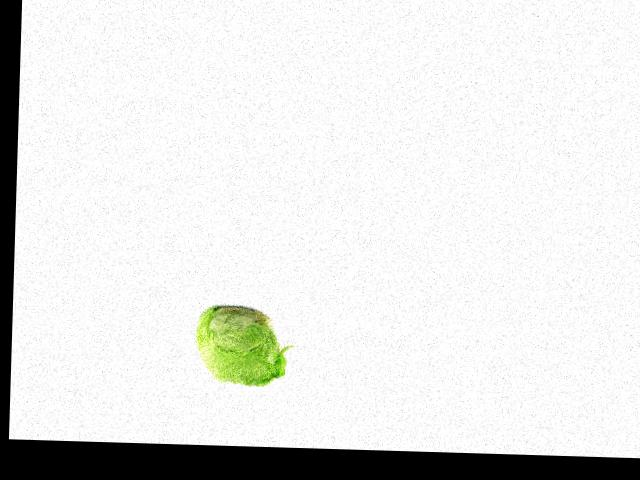lettuce: (191, 301, 284, 390)
